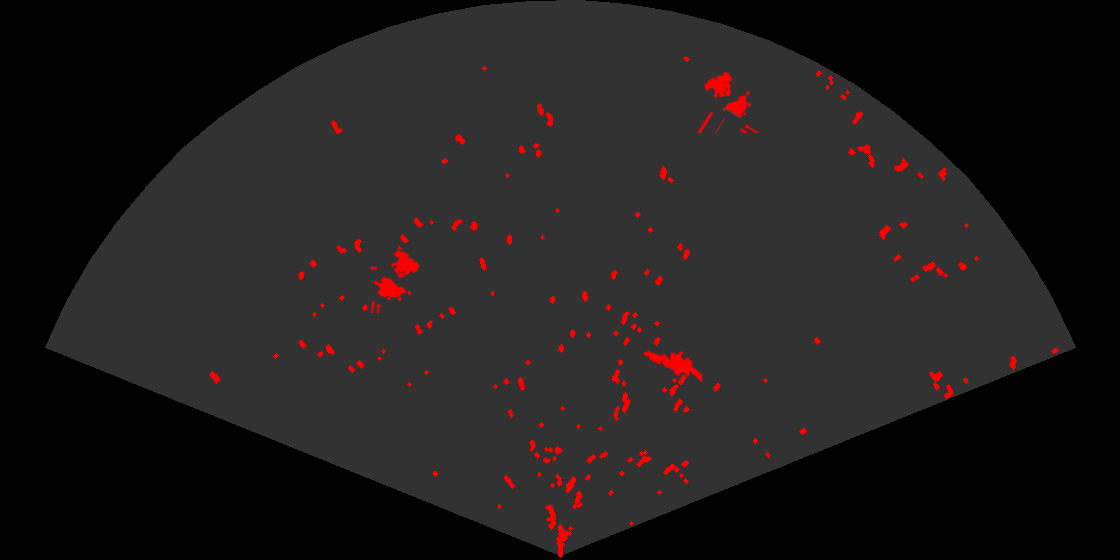cage: (696, 70, 761, 133), (371, 248, 421, 313)
frogman: (641, 349, 702, 384)
